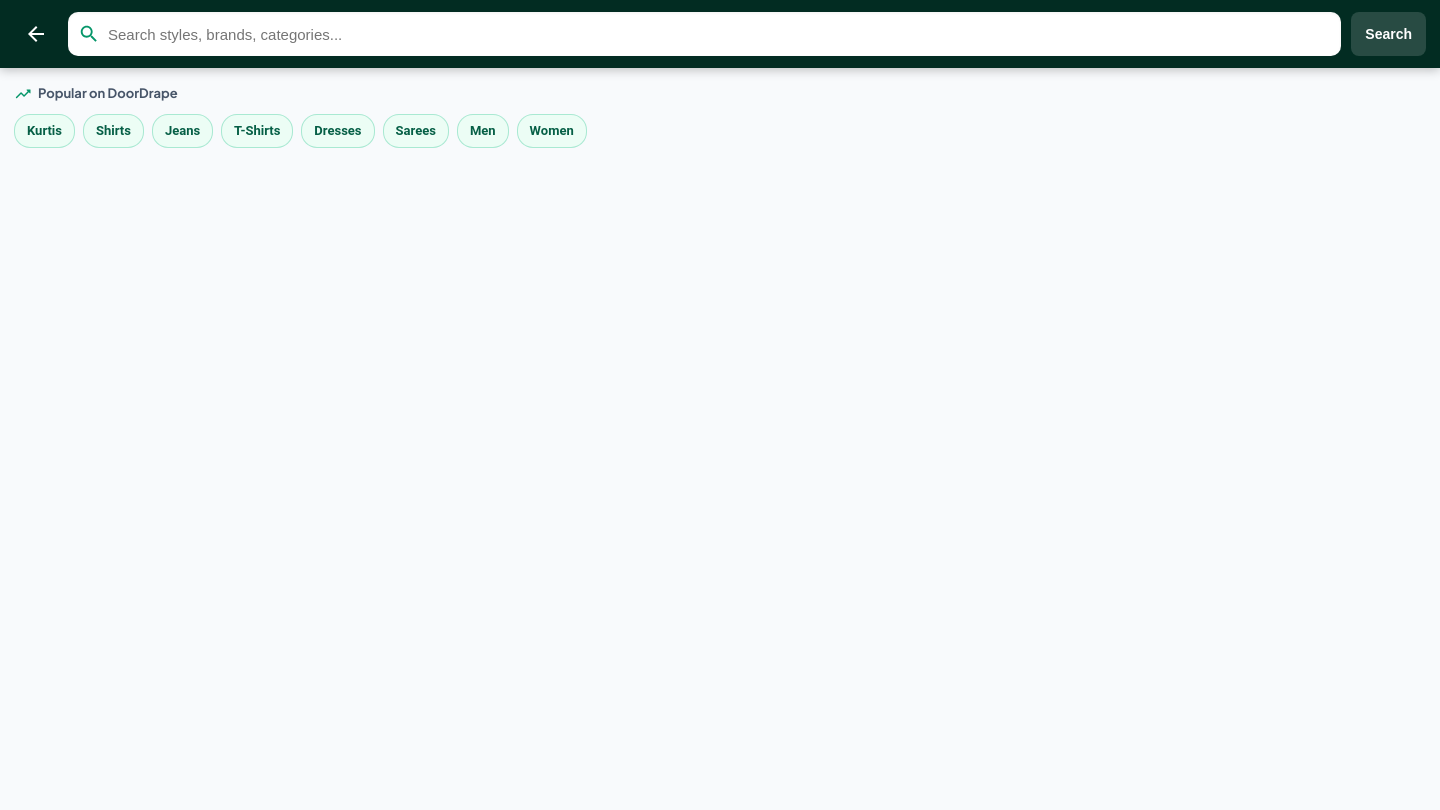
it: MobileSearchOverlay Component › debounces search input and displays matching results
Note: Type 'Cotton'
Type "Cotton" into the search field with test id "mobile-search-input" at (719,34), box x1=106 y1=24 x2=1331 y2=44
Wait 400 ms
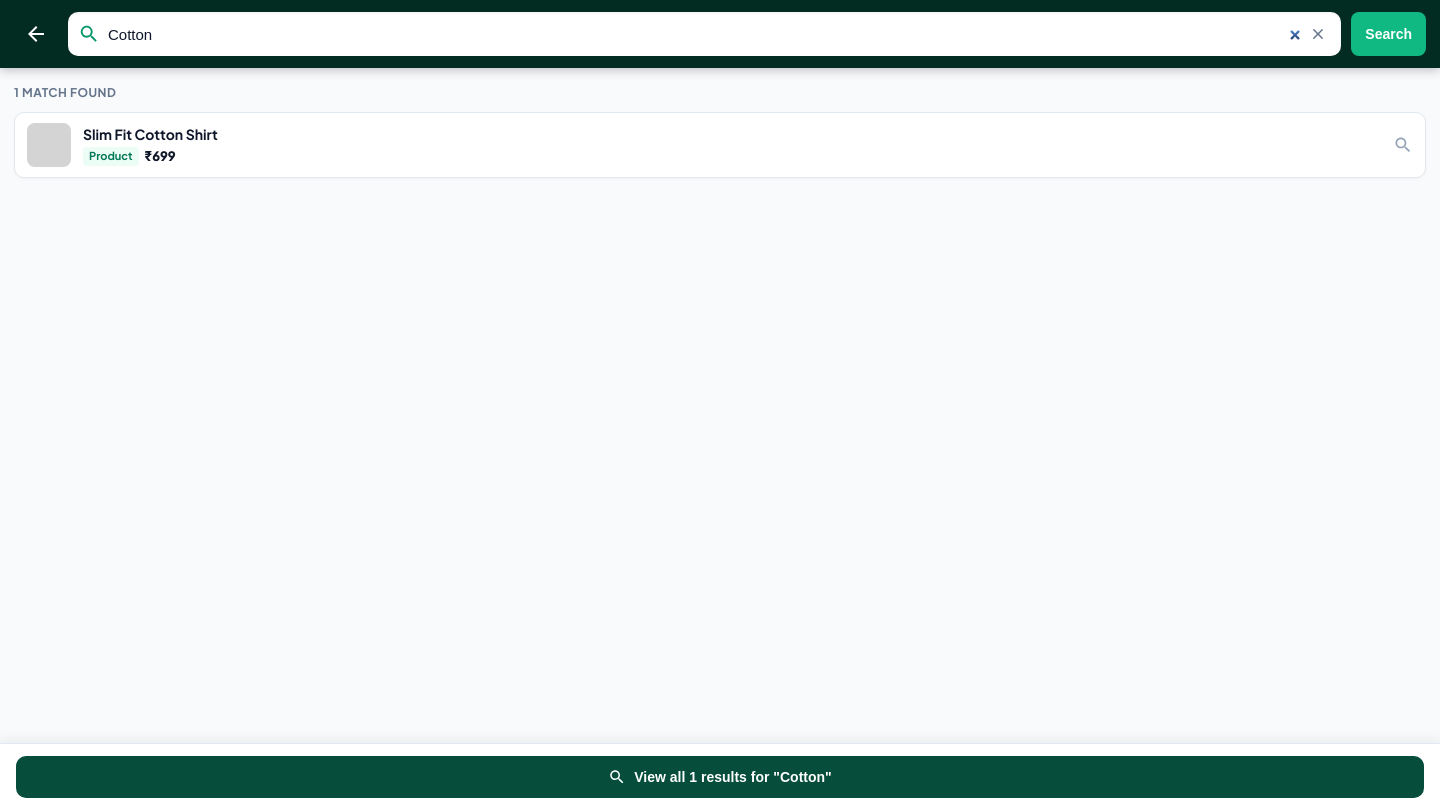
Now the text "Slim Fit Cotton Shirt" is shown, box x1=83 y1=125 x2=218 y2=143
Now the text "₹699" is shown, box x1=145 y1=147 x2=176 y2=166
